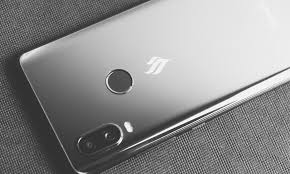vsmart: (12, 1, 290, 172)
